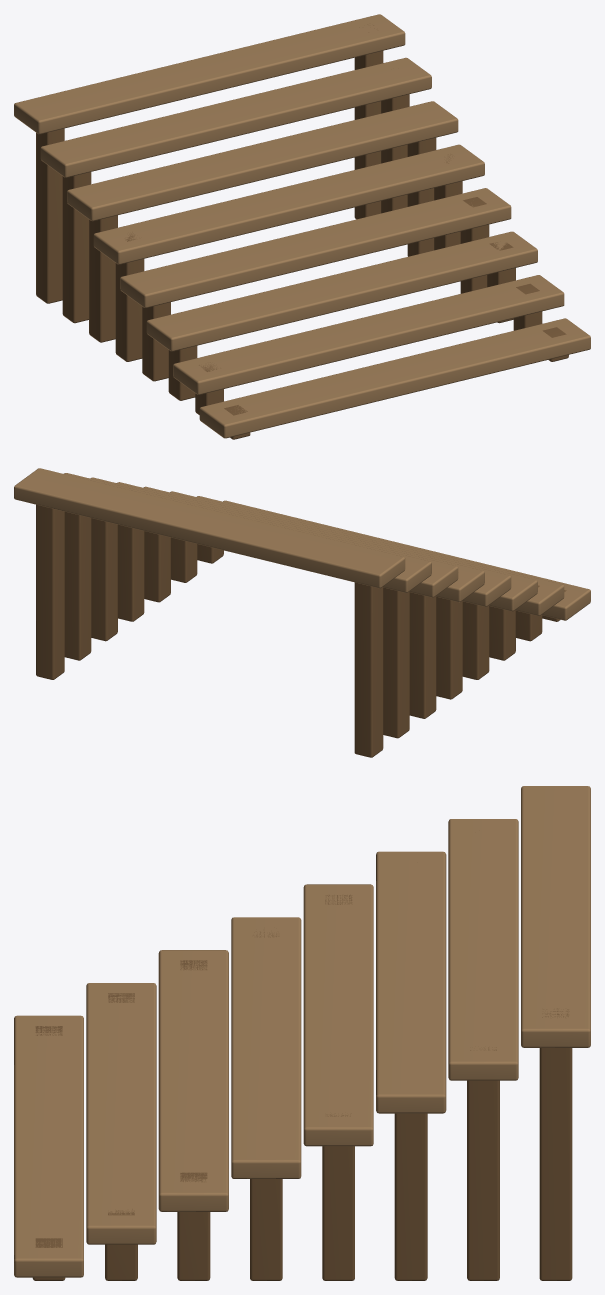
The model's file is build-stairs.glb.
3 views of the same model, one above another, from view 1: azimuth 30°, elevation 25°; view 2: azimuth 150°, elevation 25°; view 3: azimuth 270°, elevation 25° (orthographic). The views are drawn at different scales.
Visible parts, largest first — view 1: Stair tread.006, Stair tread.007, Stair tread.004, Stair tread.005, Stair tread.002, Stair tread.003, Stair tread.001, Stair tread, Step support.014, Step support.012, Step support.010, Step support.008 (+8 smaller); view 2: Stair tread.007, Step support.014, Step support.015, Step support.013, Step support.012, Step support.010, Step support.011, Step support.008, Step support.009, Step support.006, Stair tread.005, Stair tread.003 (+10 smaller); view 3: Stair tread.004, Stair tread.005, Stair tread.003, Stair tread.006, Stair tread.001, Stair tread.002, Stair tread.007, Stair tread, Step support.015, Step support.013, Step support.011, Step support.009 (+3 smaller).
Part boxes in pixels (box(x1,y1,x2,y2)): Stair tread.006: box(40, 57, 431, 177); Stair tread.007: box(14, 14, 405, 134); Stair tread.004: box(93, 144, 484, 264); Stair tread.005: box(67, 101, 458, 221); Stair tread.002: box(146, 231, 537, 351); Stair tread.003: box(120, 188, 511, 307); Stair tread.001: box(173, 275, 564, 394); Stair tread: box(199, 318, 590, 438); Step support.014: box(36, 128, 64, 303); Step support.012: box(62, 172, 91, 323); Step support.010: box(89, 215, 117, 342); Step support.008: box(115, 232, 144, 361); Stair tread.007: box(14, 468, 405, 588); Step support.014: box(354, 582, 383, 757); Step support.015: box(36, 504, 64, 679); Step support.013: box(64, 511, 91, 660); Step support.012: box(383, 587, 409, 738); Step support.010: box(409, 592, 436, 718); Step support.011: box(91, 518, 117, 641); Step support.008: box(436, 597, 462, 699); Step support.009: box(118, 524, 144, 621); Step support.006: box(462, 601, 489, 679); Stair tread.005: box(90, 477, 458, 597); Stair tread.003: box(143, 486, 511, 606); Stair tread.004: box(303, 884, 373, 1146); Stair tread.005: box(376, 851, 446, 1113); Stair tread.003: box(231, 917, 301, 1178); Stair tread.006: box(448, 819, 518, 1080); Stair tread.001: box(86, 983, 156, 1244); Stair tread.002: box(158, 950, 228, 1211); Stair tread.007: box(521, 786, 590, 1047); Stair tread: box(14, 1015, 83, 1277); Step support.015: box(539, 1008, 572, 1280); Step support.013: box(467, 1047, 499, 1280); Step support.011: box(394, 1113, 427, 1280); Step support.009: box(322, 1113, 354, 1280).
Bounding box in the file's own units: 3 × 1.5 × 2.99.
